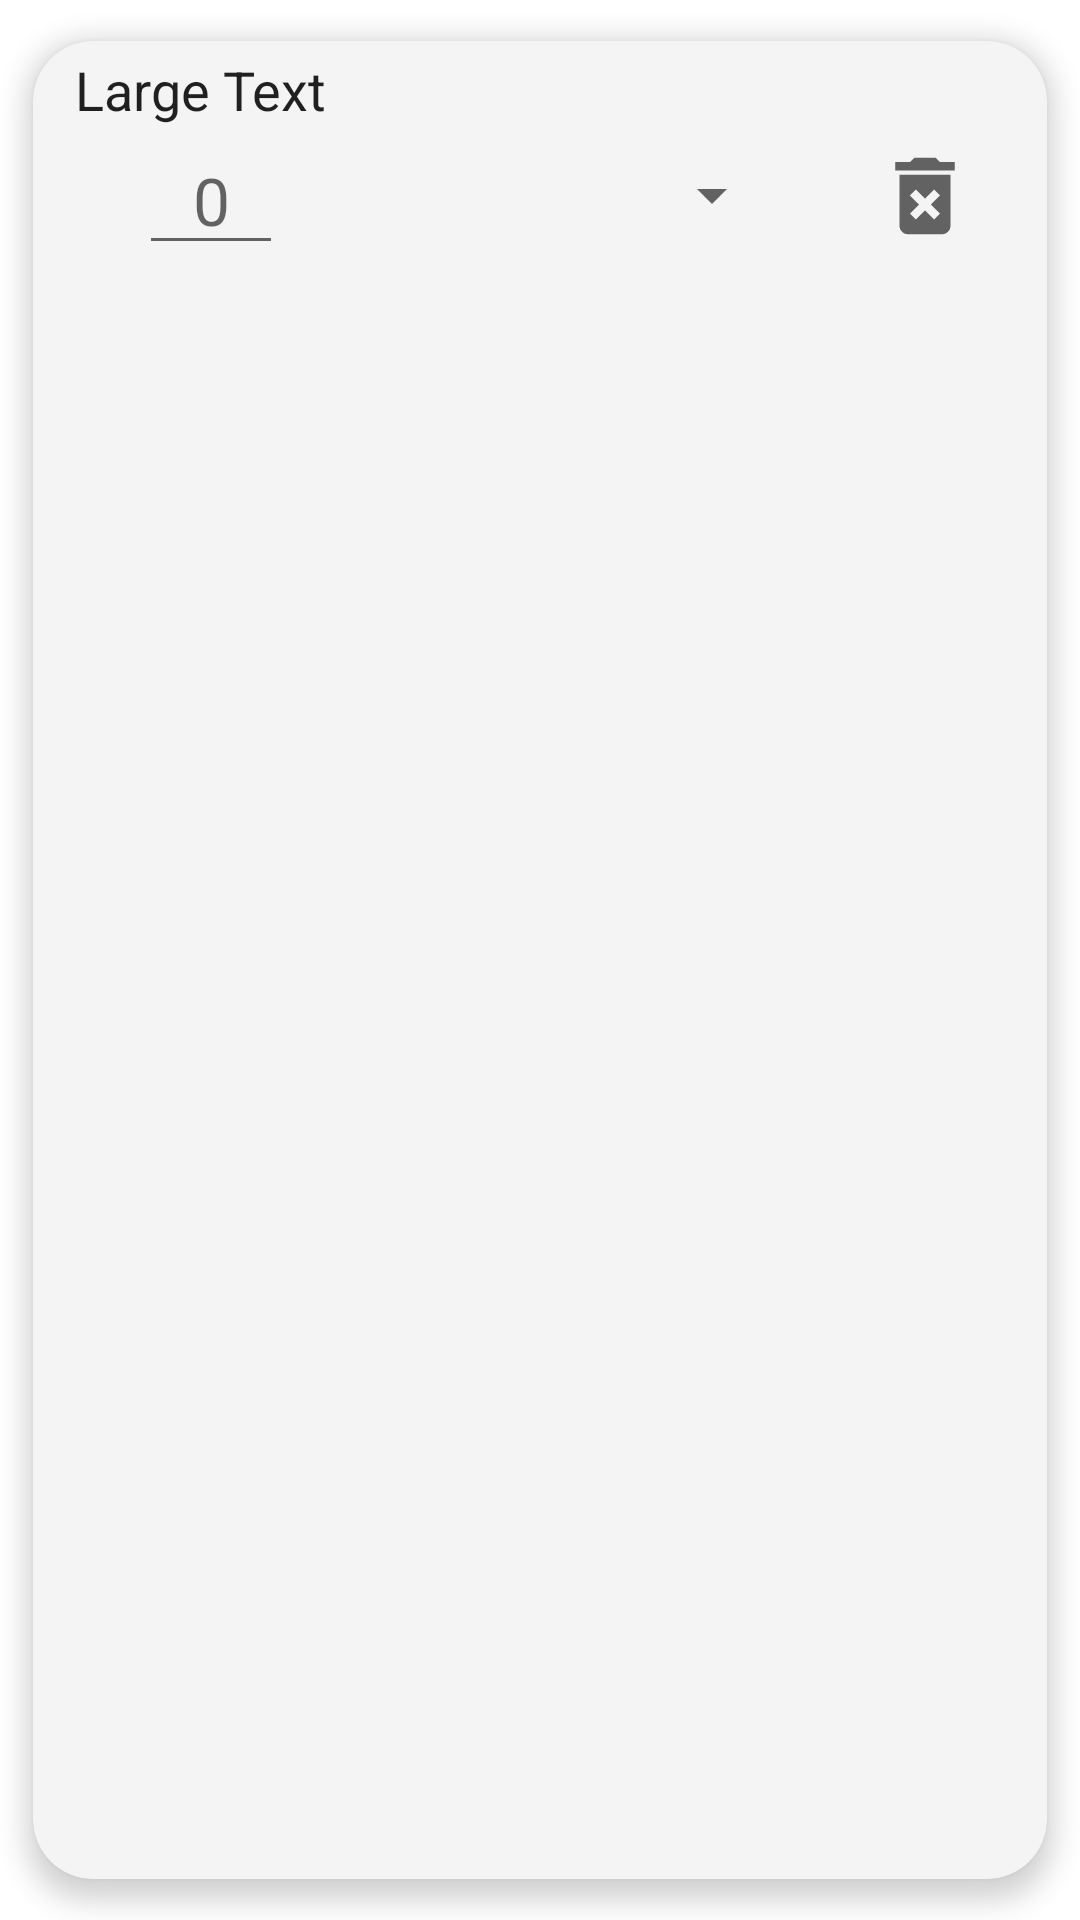

Icons on this 1080×1920 Android screen, each with its box as (x1,y1,x2,y2):
delete: (895,157,955,235)
